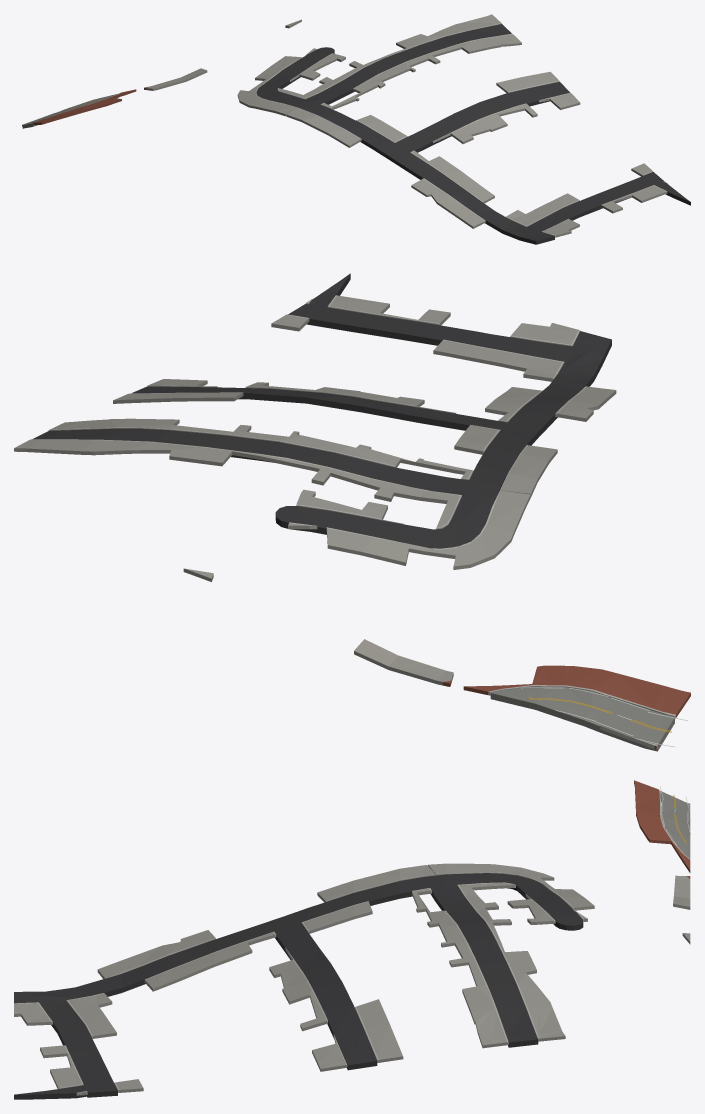
The picture shows the model from 3 angles, top to bottom: view 1: azimuth 30°, elevation 25°; view 2: azimuth 150°, elevation 25°; view 3: azimuth 270°, elevation 25°; orthographic projection. The views are drawn at different scales.
Size of the model in its own units: 150 by 19.11 by 146.
